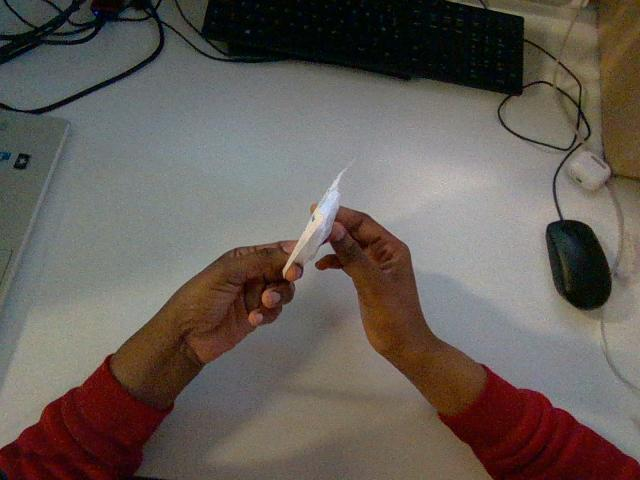gauze: (283, 167, 347, 275)
